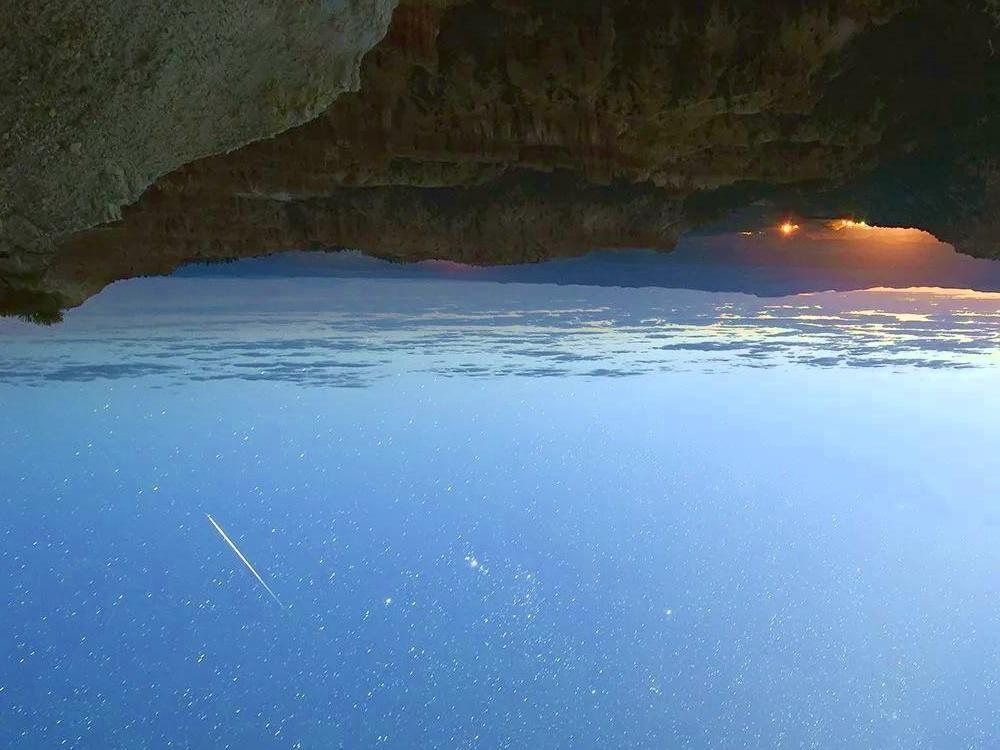meteorite: (186, 511, 300, 604)
